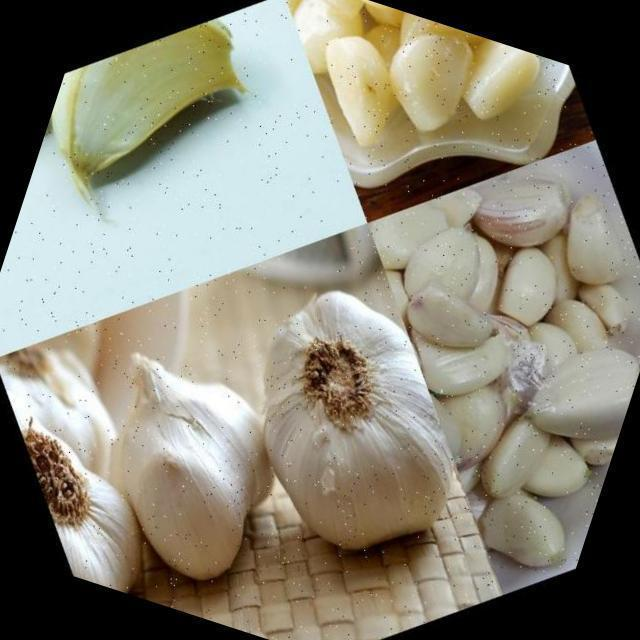garlic: (272, 88, 640, 613), (144, 218, 542, 624), (7, 273, 379, 640), (240, 0, 579, 225), (28, 0, 294, 246), (0, 335, 238, 608), (15, 75, 105, 236)
